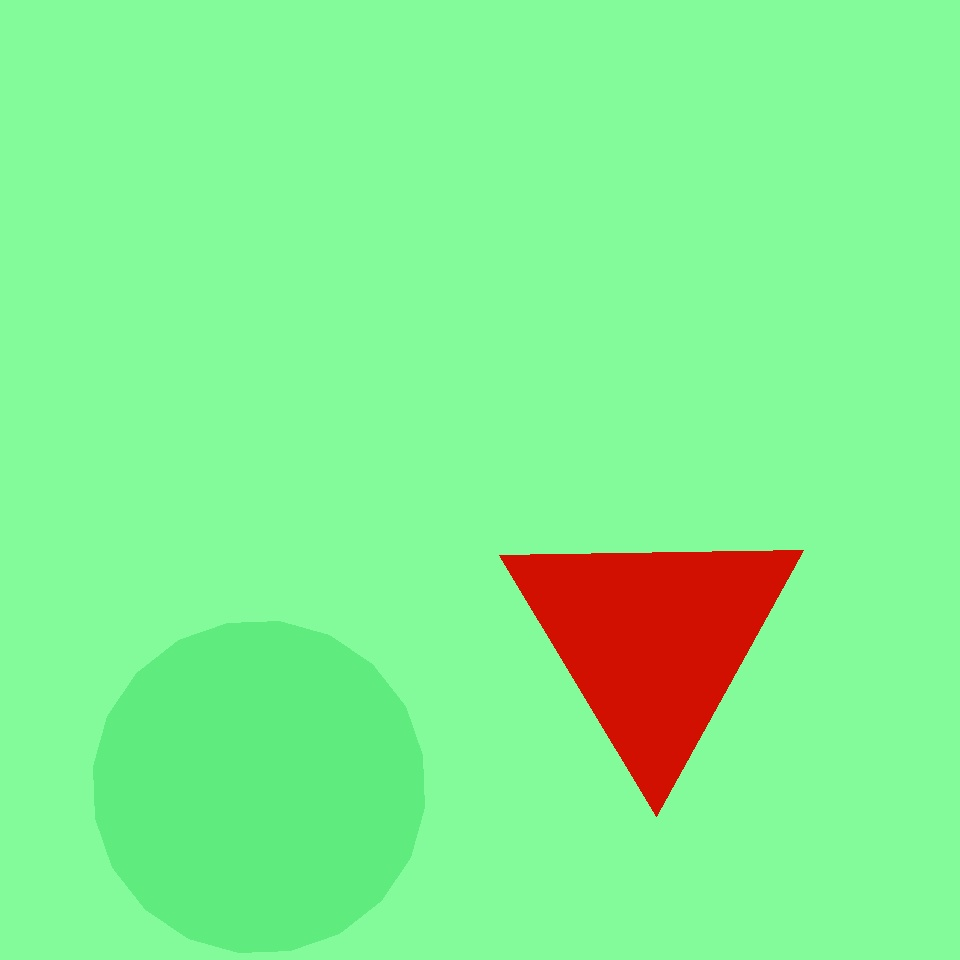circle: (501, 508, 805, 774), (540, 415, 800, 691)
square: (604, 281, 855, 533)
triangle: (93, 622, 424, 952), (103, 516, 404, 817)
